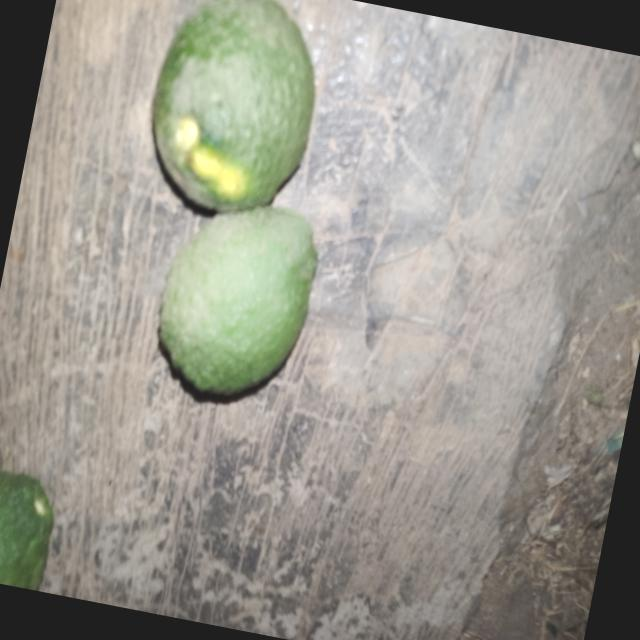Unripe: (122, 0, 335, 267), (137, 186, 340, 424)
